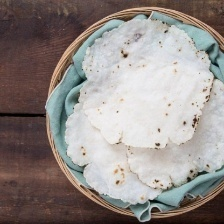roti: (63, 16, 224, 203)
